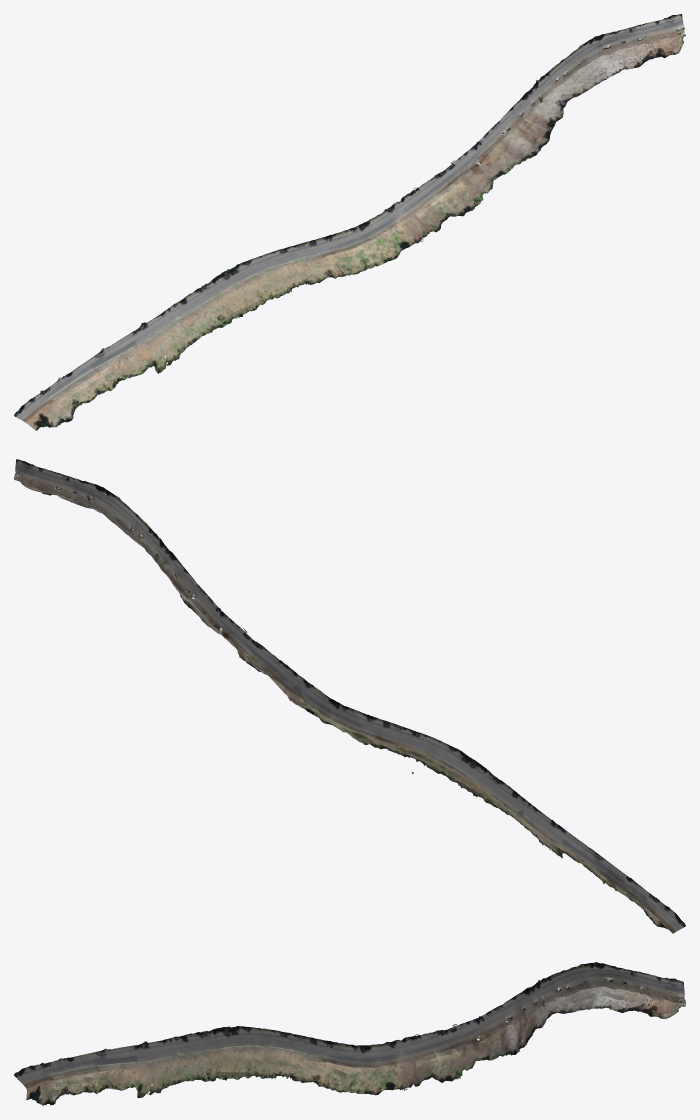
The model's file is Superficie_T6T7.glb.
The picture shows the model from 3 angles, top to bottom: view 1: azimuth 30°, elevation 25°; view 2: azimuth 150°, elevation 25°; view 3: azimuth 330°, elevation 25°; orthographic projection. The views are drawn at different scales.
Visible parts, largest first — view 1: Bloco 1; view 2: Bloco 1; view 3: Bloco 1.
Part boxes in pixels (left/top/right/bottom): Bloco 1: left=14, top=14, right=685, bottom=430; Bloco 1: left=14, top=459, right=685, bottom=933; Bloco 1: left=14, top=962, right=685, bottom=1105.
Bounding box in the file's own units: 684 × 278 × 54.64.
1 material, 1 textured.
